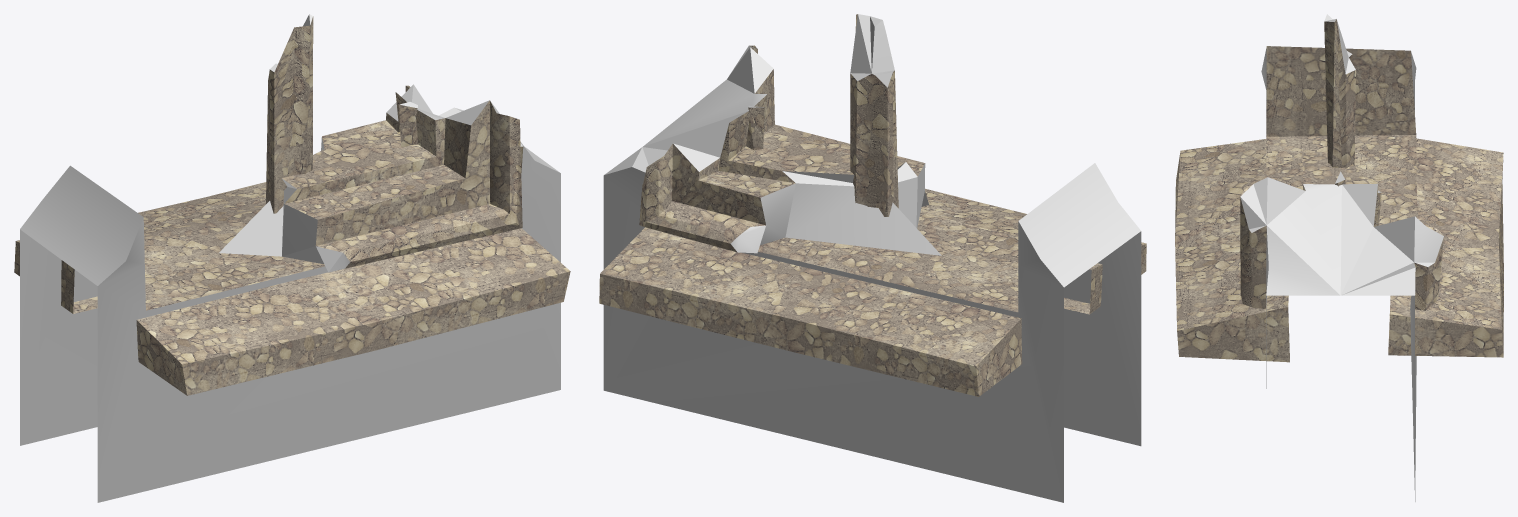
Rendered from SM_Ruins_Window_03.fbx.
3 views of the same model, side by side, from view 1: azimuth 30°, elevation 25°; view 2: azimuth 150°, elevation 25°; view 3: azimuth 270°, elevation 25° (orthographic). The views are drawn at different scales.
Parts seen in each view (by area): view 1: Window_2_left; view 2: Window_2_left; view 3: Window_2_left.
Part boxes in pixels (box(x1,y1,x2,y2)): Window_2_left: box(14, 14, 570, 502); Window_2_left: box(599, 14, 1146, 502); Window_2_left: box(1175, 14, 1503, 501).
Bounding box in the file's own units: 200 × 166 × 129.
